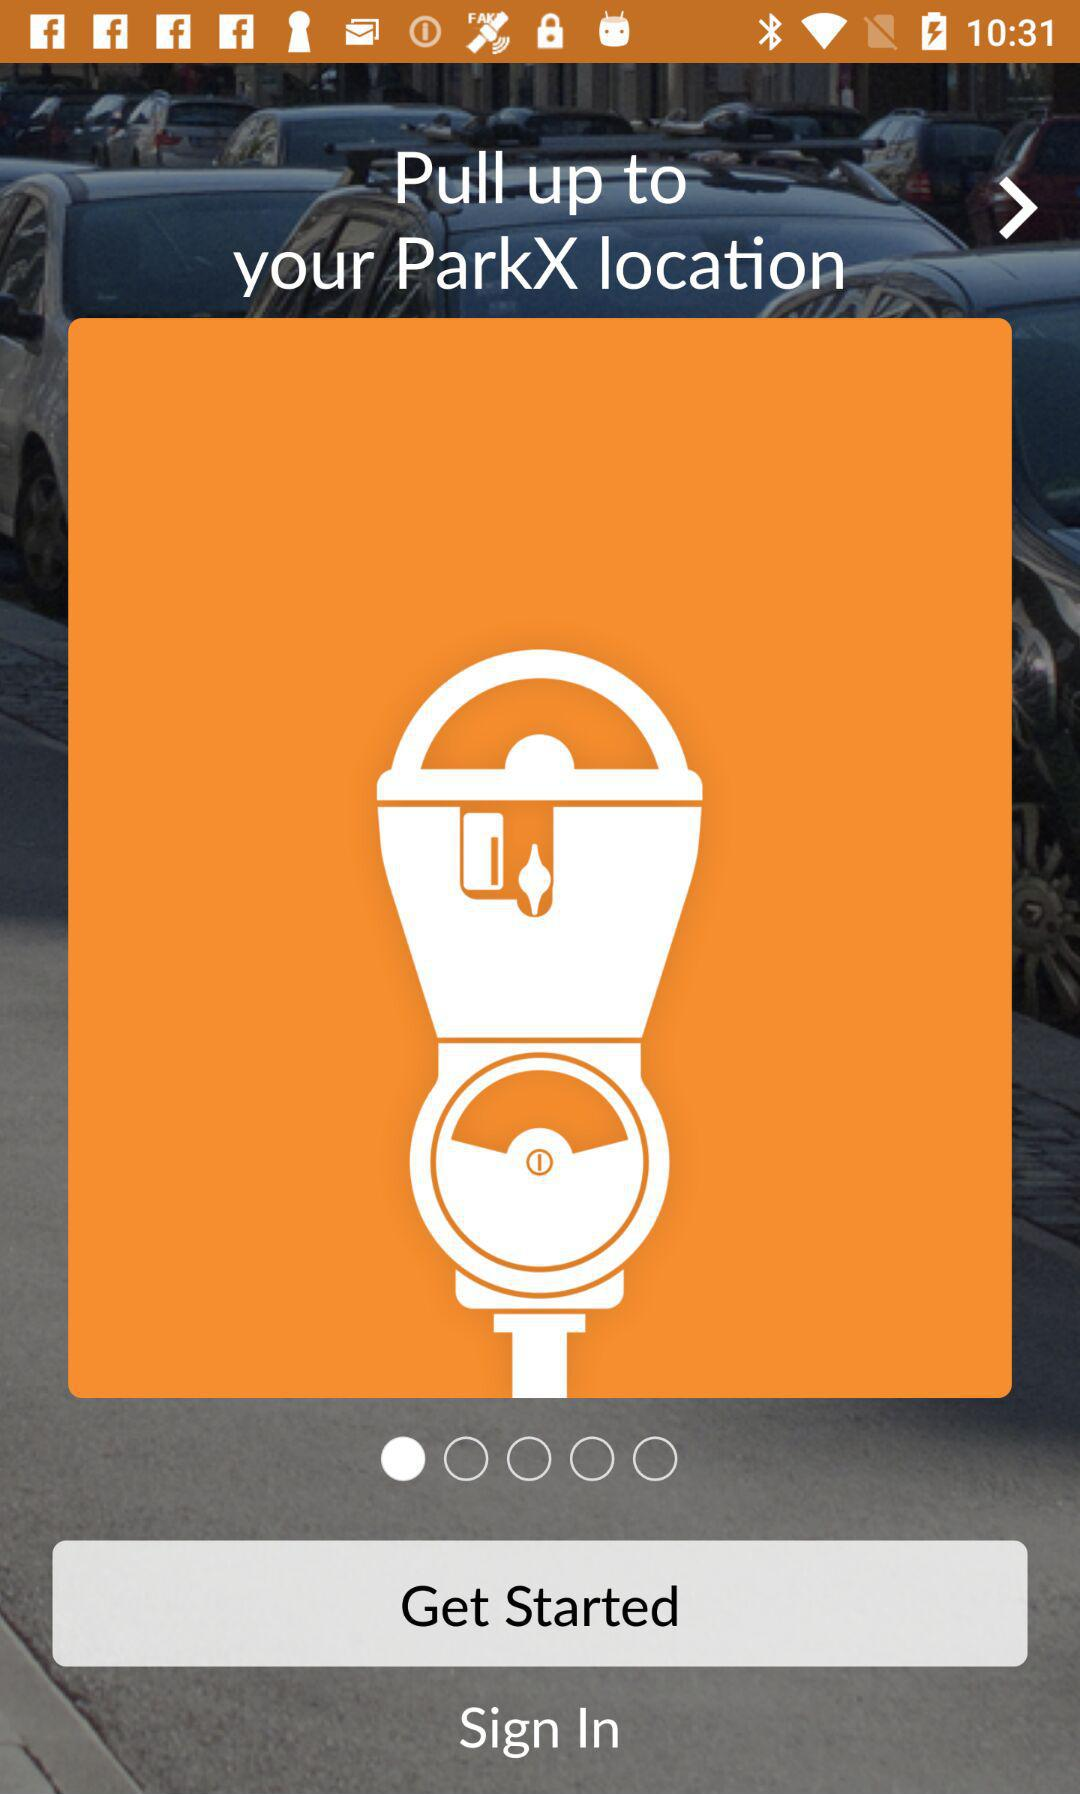BackgroundImage: (1, 64, 1080, 1794)
Icon: (997, 176, 1042, 243)
Image: (375, 648, 705, 1398)
PageIndicator: (380, 1434, 680, 1484)
Text: (231, 150, 846, 300), (459, 1706, 620, 1759)
TextButton: (53, 1540, 1029, 1668)
UpperTaskBar: (1, 1, 1080, 64)
